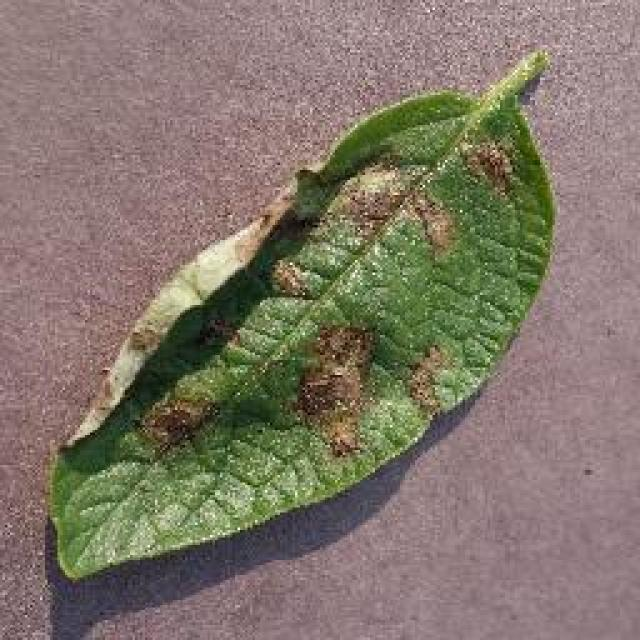Potato___Late_blight: (42, 41, 560, 592)
